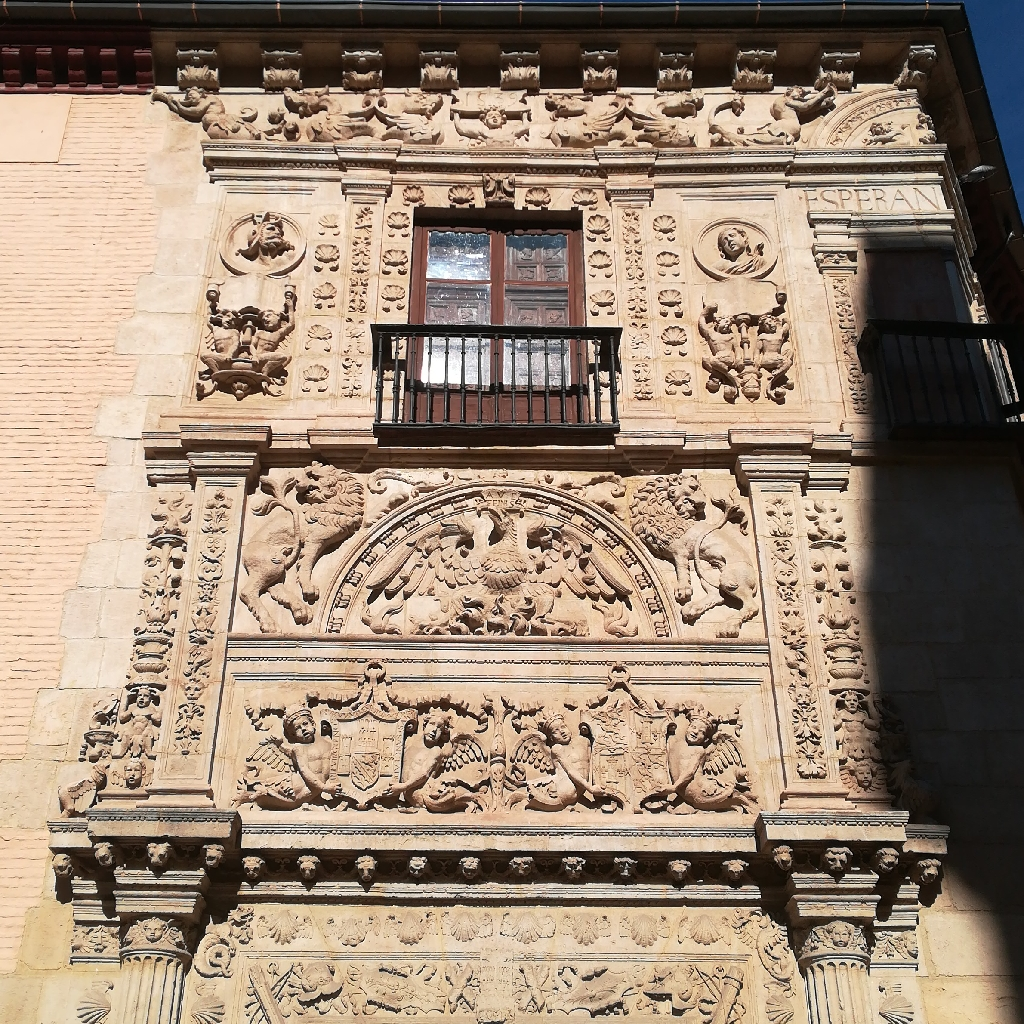vano-adintelado: (366, 176, 620, 427)
